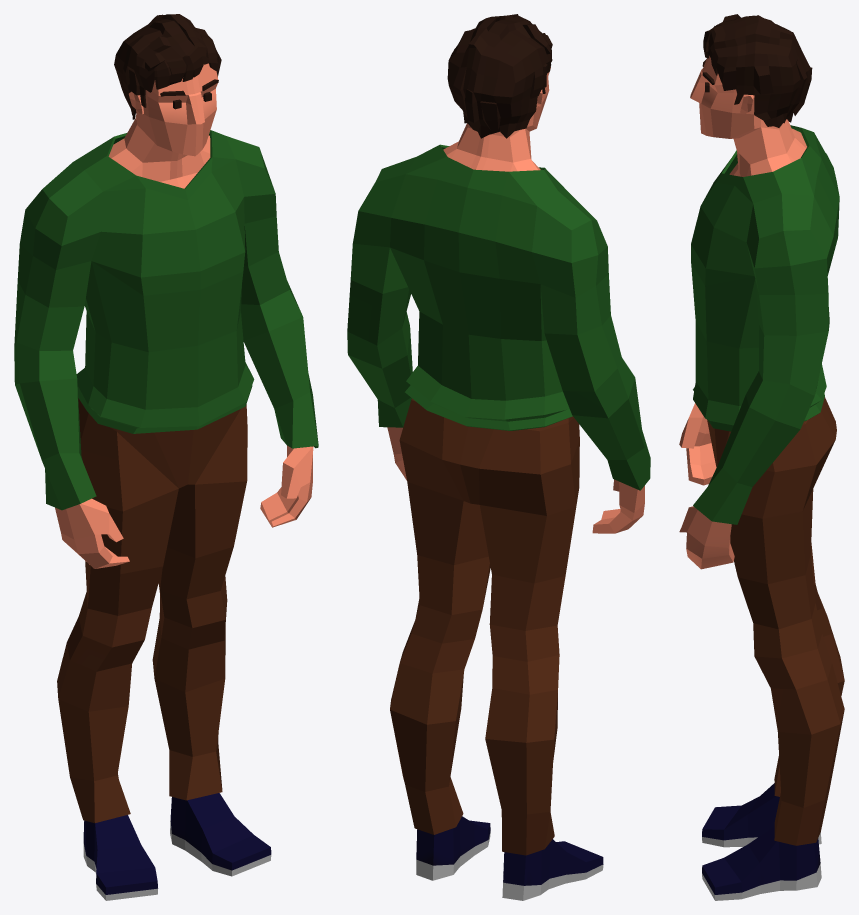
Rendered from JamesModel.fbx.
3 views of the same model, side by side, from view 1: azimuth 30°, elevation 25°; view 2: azimuth 150°, elevation 25°; view 3: azimuth 270°, elevation 25° (orthographic).
Parts seen in each view (by area): view 1: Cube.003; view 2: Cube.003; view 3: Cube.003.
Part boxes in pixels (x1,y1,x2,y2): Cube.003: [14, 14, 318, 900]; Cube.003: [347, 14, 650, 900]; Cube.003: [679, 14, 844, 900].
Bounding box in the file's own units: 57.9 × 170 × 30.07.
